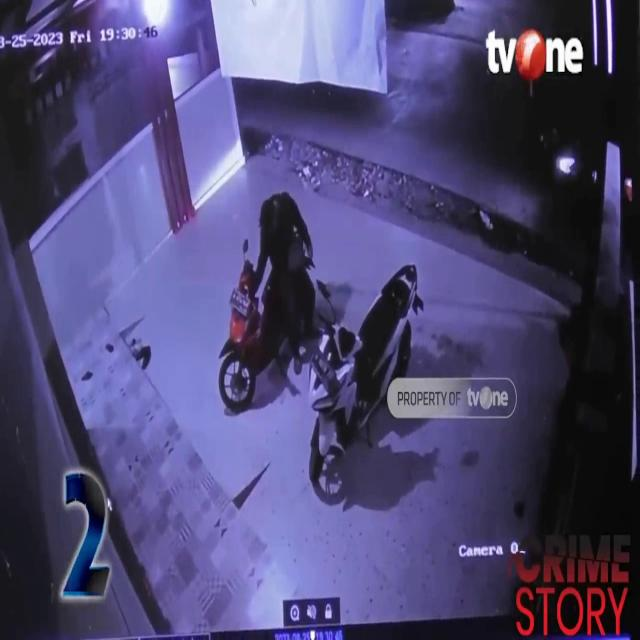pencurian: (225, 190, 315, 394)
